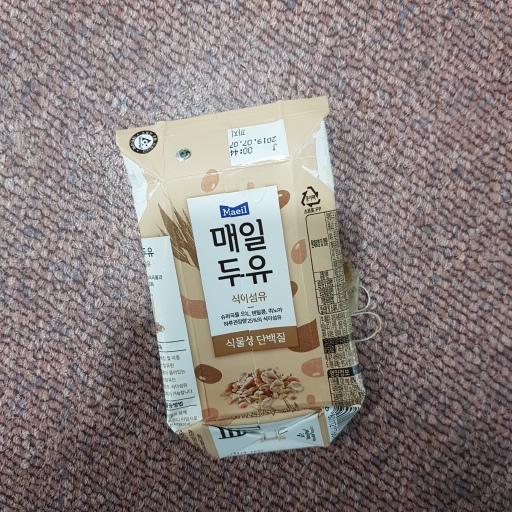Paper_0: (105, 94, 380, 464)
